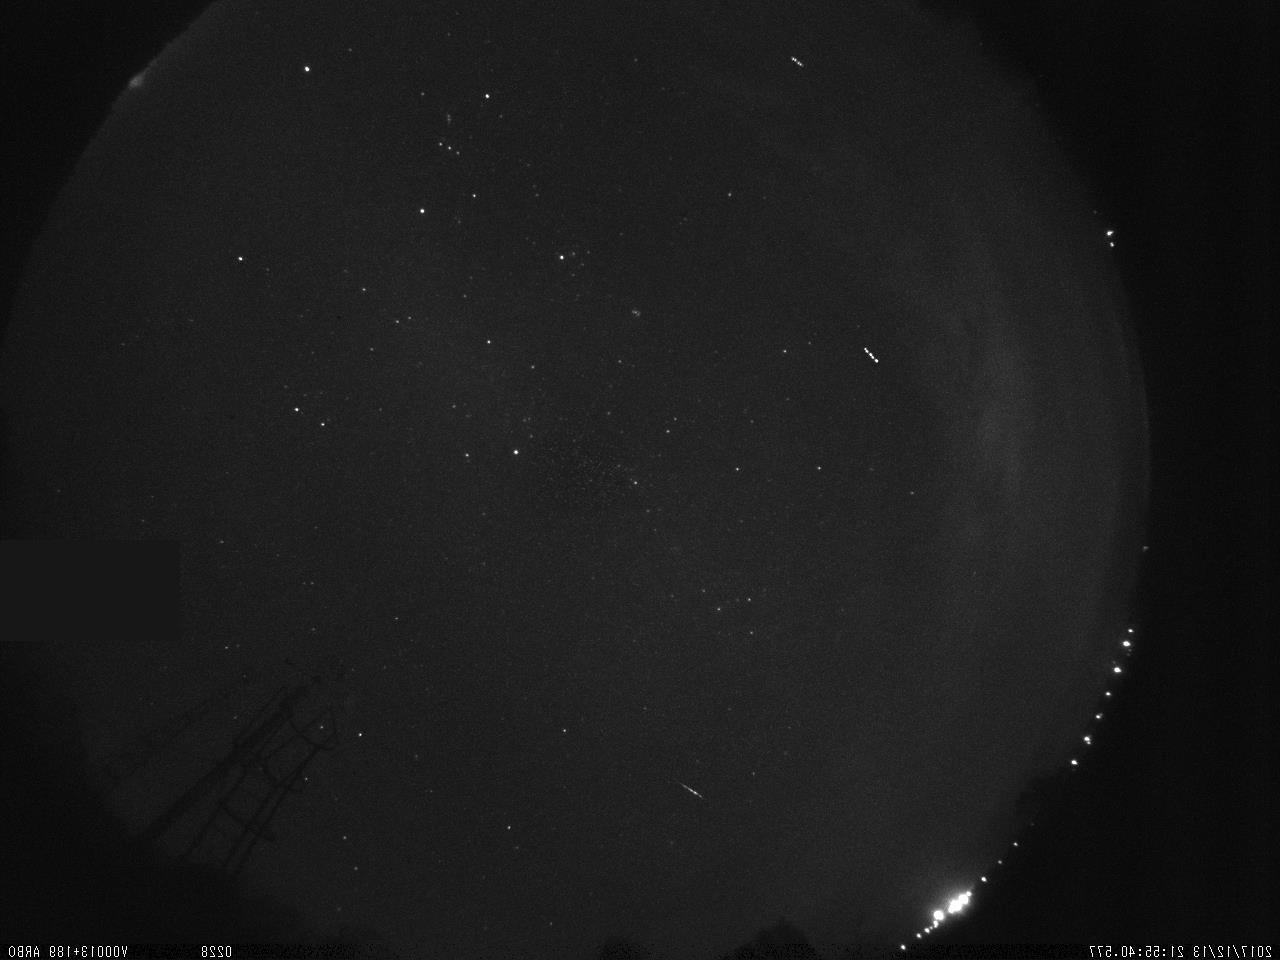meteor: (640, 768, 731, 814)
